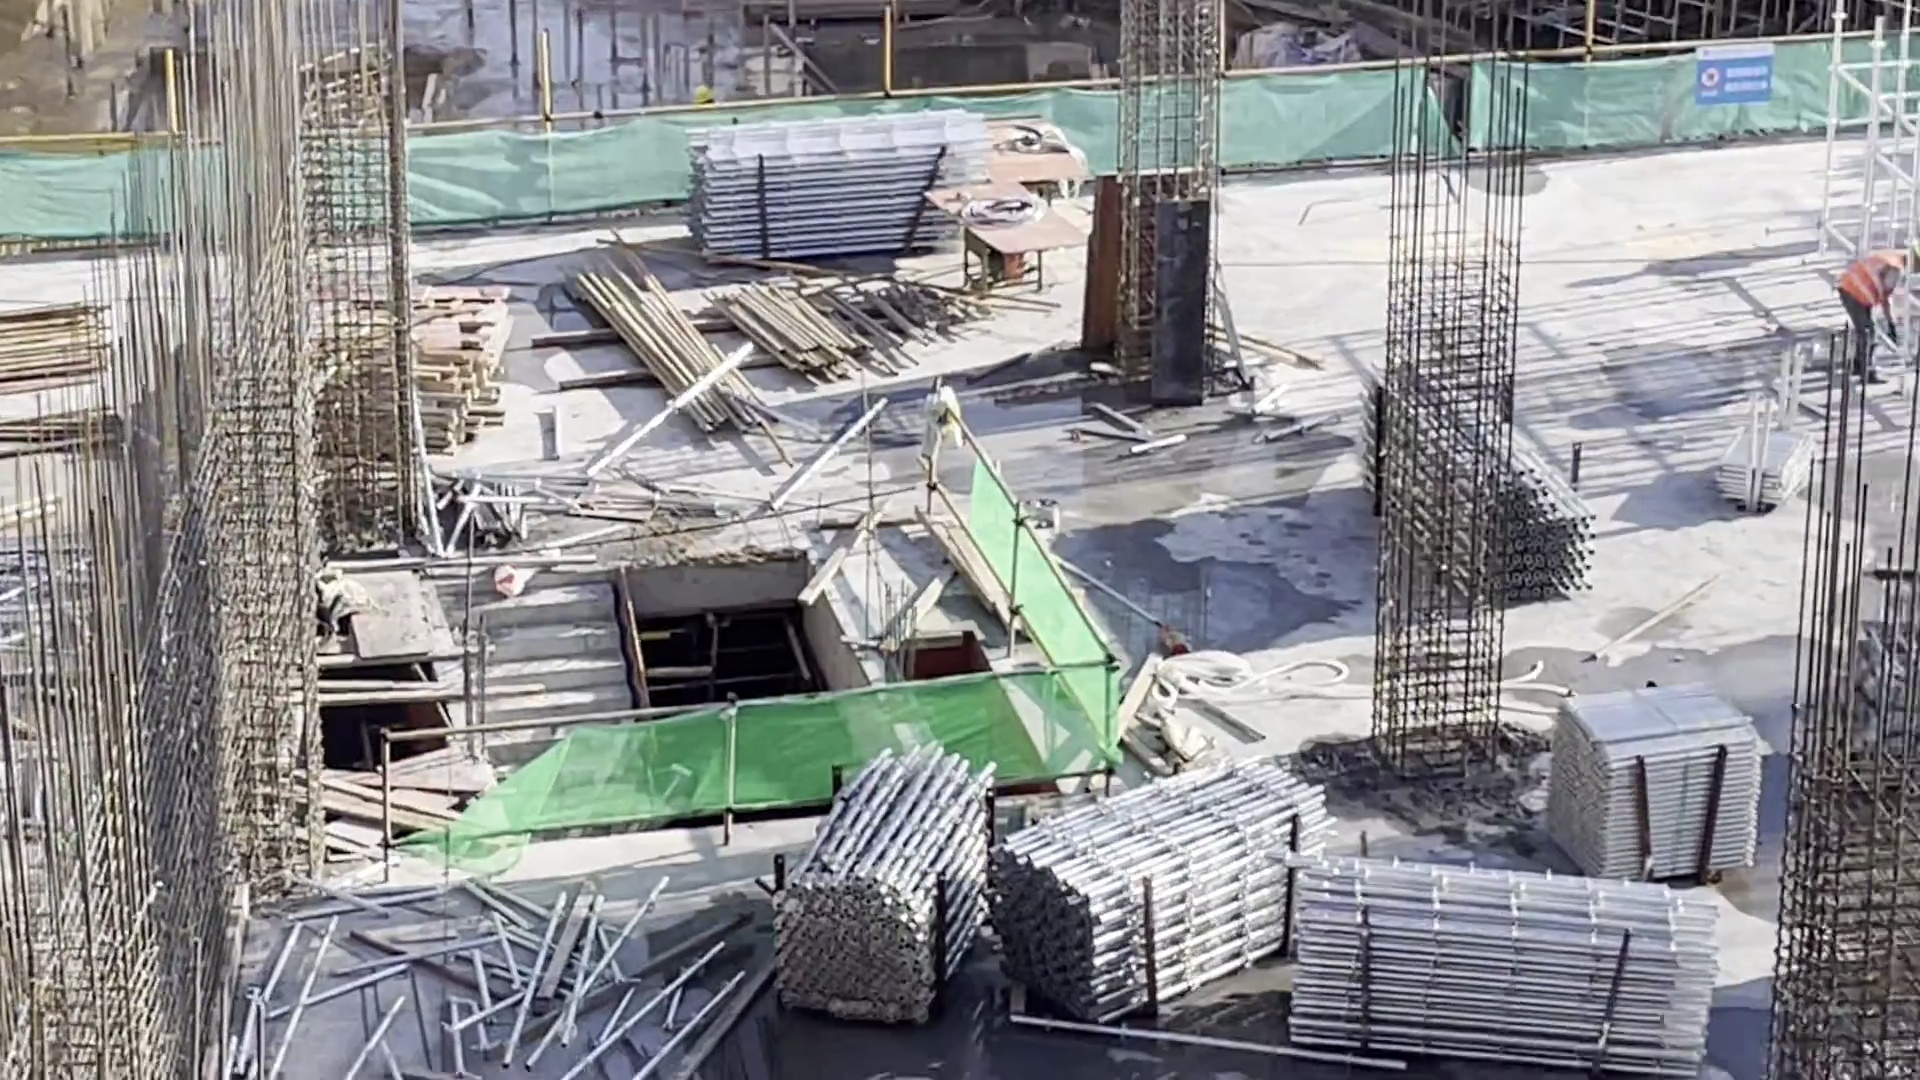cutter: (964, 200, 1063, 294), (998, 113, 1086, 199)
helmet: (686, 81, 712, 102)
person: (1828, 234, 1920, 398)
scaffold: (1291, 864, 1711, 1080), (1008, 773, 1313, 1011), (1372, 380, 1595, 605), (791, 771, 980, 1024), (701, 143, 1032, 272), (1584, 696, 1759, 887), (1728, 383, 1801, 505)
slogan: (1684, 52, 1779, 113)
vest: (1845, 249, 1898, 313)
wood: (321, 324, 497, 465)
